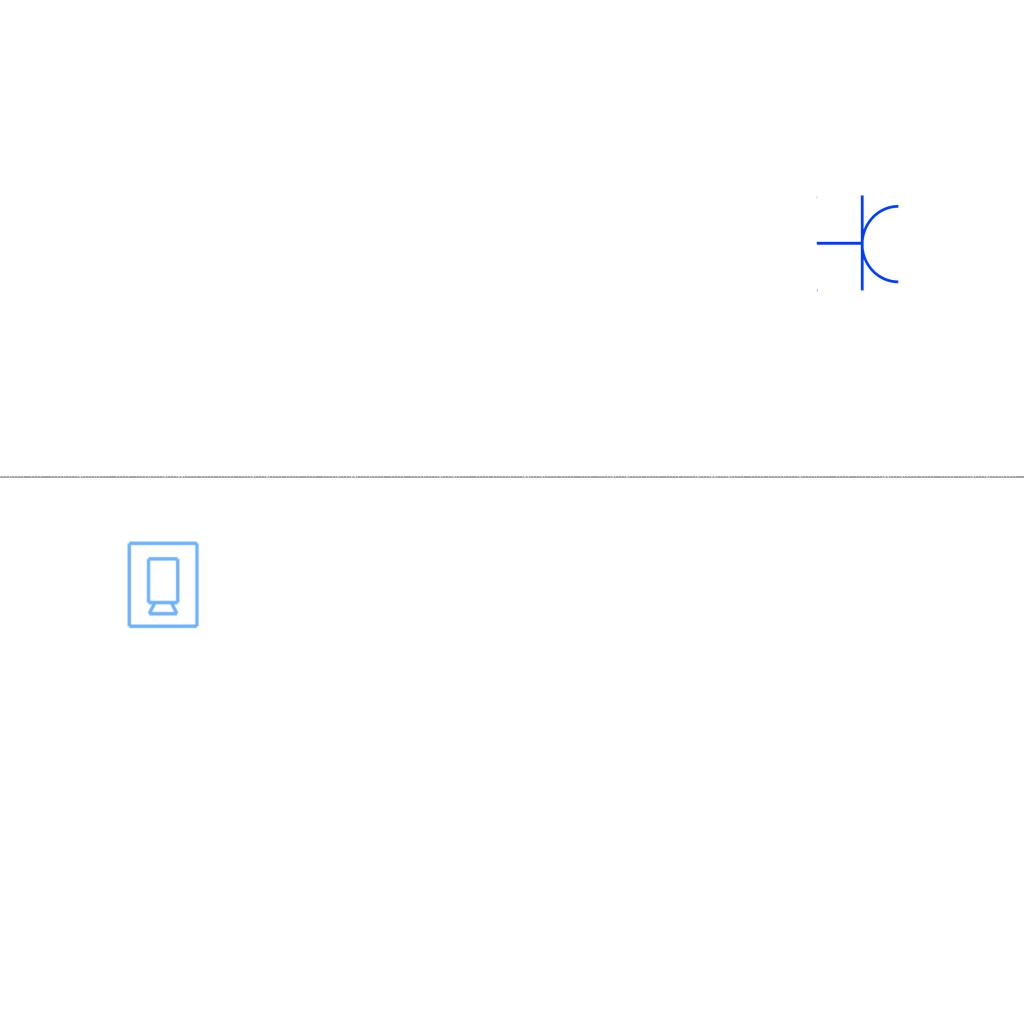KFO_Kamera_mit_Festobjektiv: (124, 539, 201, 630)
Schukosteckdose_einfach: (816, 194, 903, 294)
